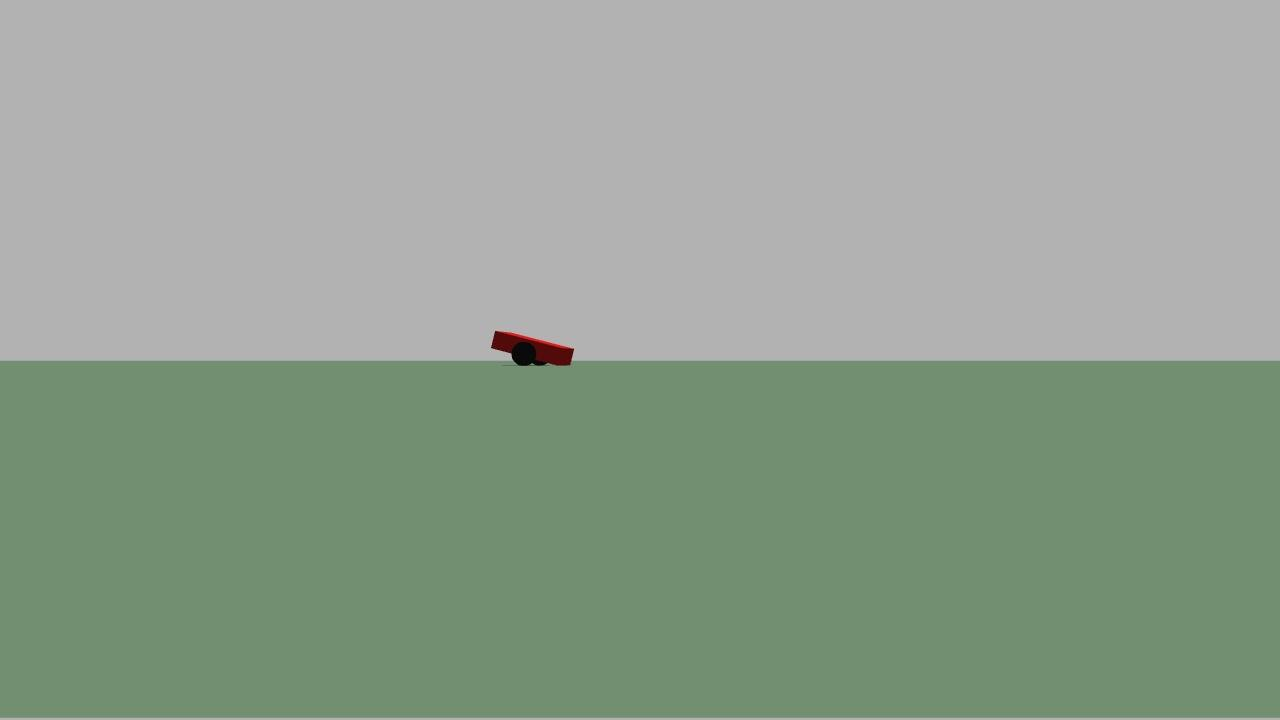ground_vehicle: (483, 322, 581, 378)
